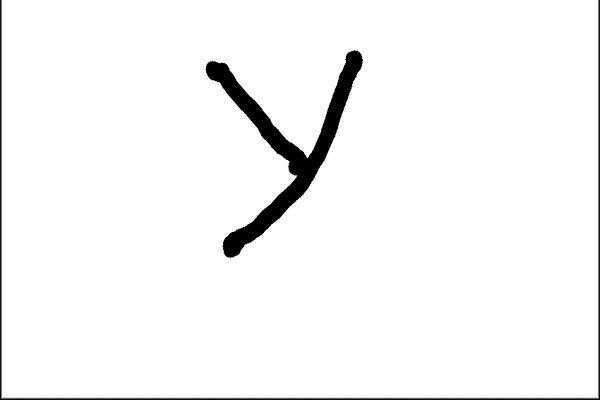Y: (186, 35, 370, 269)
